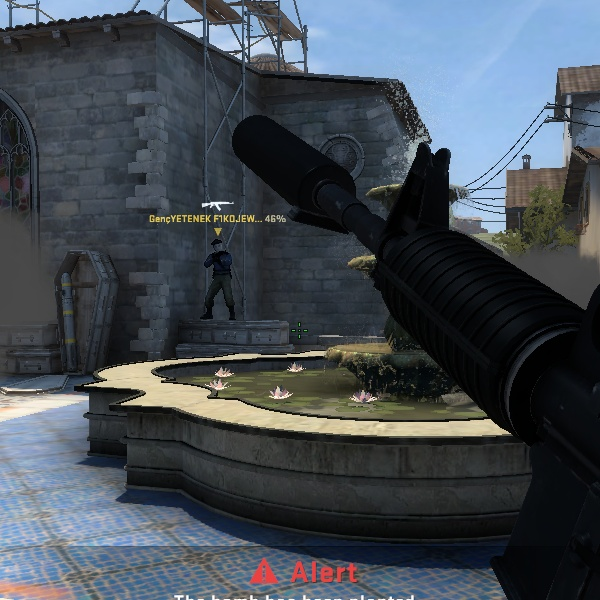t_body: (196, 233, 239, 321)
